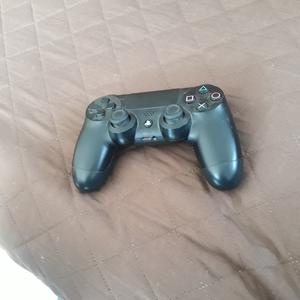controller: (71, 84, 239, 192)
